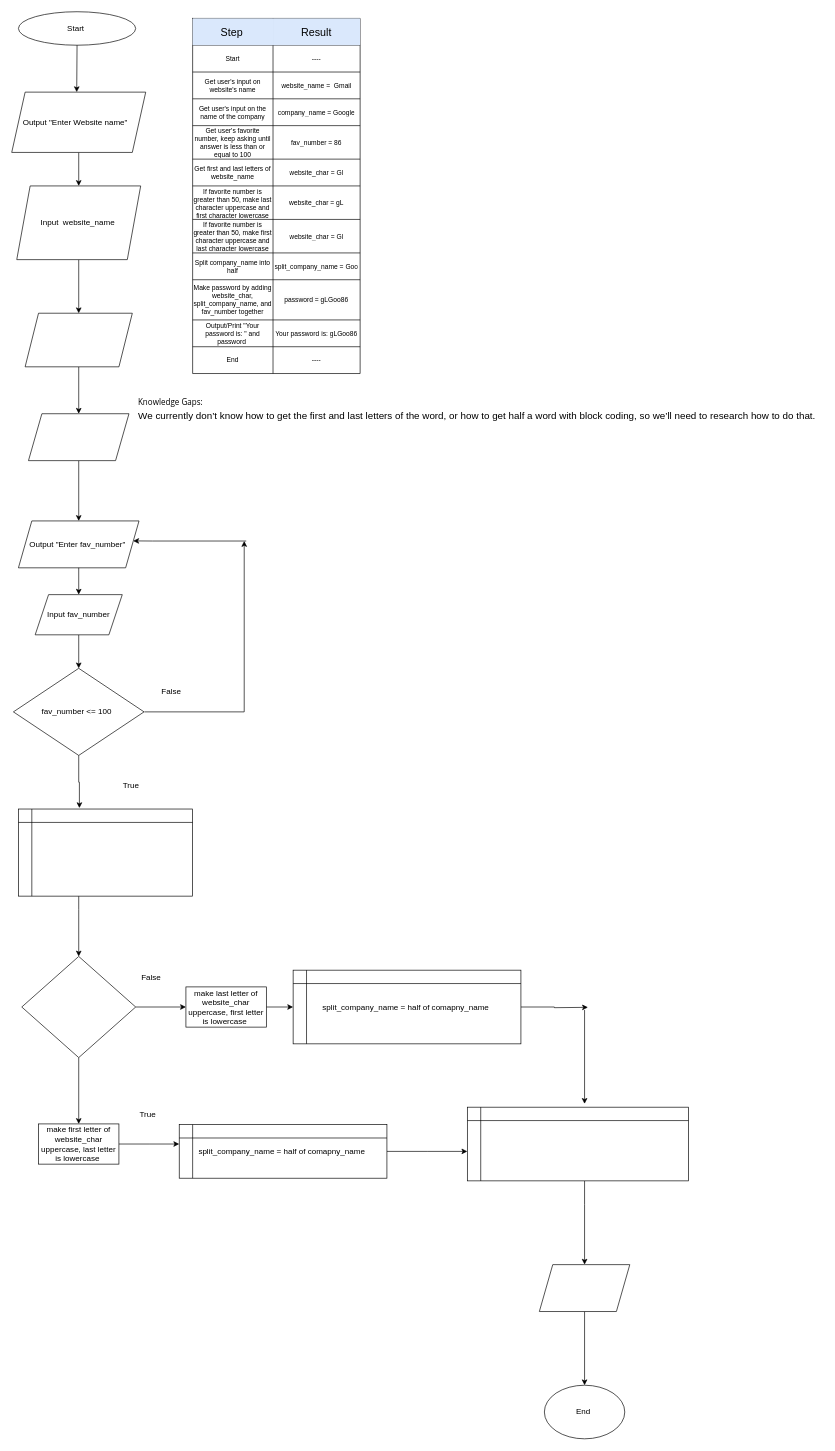
The diagram is 835 pixels wide and 1451 high, and some of its shapes have lost their labels. The shapes that lost their labels are listed below. From the top down, each one's centre as x and y in pixels, then its label:
(78,340): Output "Enter Company name"
(78,437): Input comapany_name
(105,852): website_char = first and last letters of website_name
(78,1007): fav_number > 50
(577,1144): Password = website_char + split_company_name + fav_number
(584,1288): Output password
